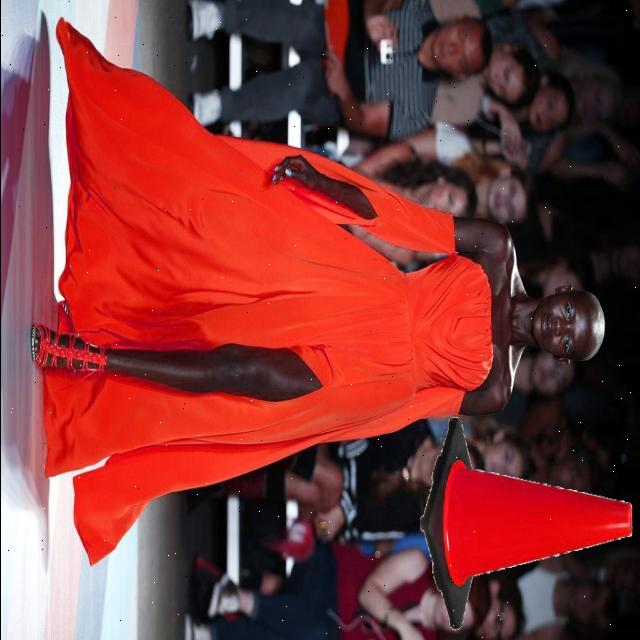traffic cone: (418, 412, 637, 636)
